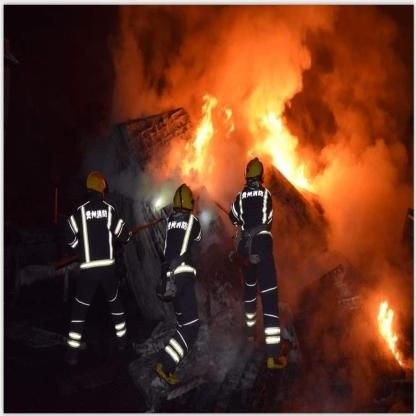fire: (254, 78, 318, 192), (173, 87, 225, 187), (373, 295, 412, 373)
smoke: (326, 28, 399, 261), (115, 8, 285, 69)
